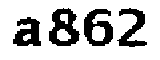2: (118, 7, 149, 50)
6: (82, 8, 115, 49)
8: (49, 7, 82, 49)
a: (13, 16, 41, 47)
